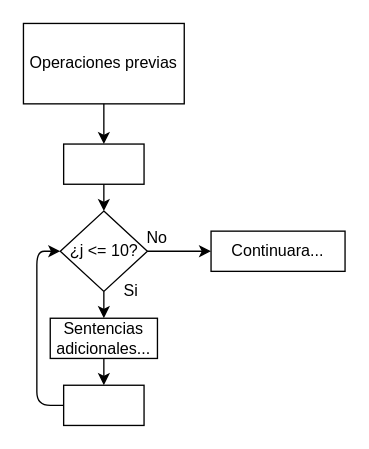
Image size: 369x449. Some labels were removed from this diagram. Each missing label, with the centre of its shape:
j = 0: the point at 103,163
j = j + 1: the point at 103,404
